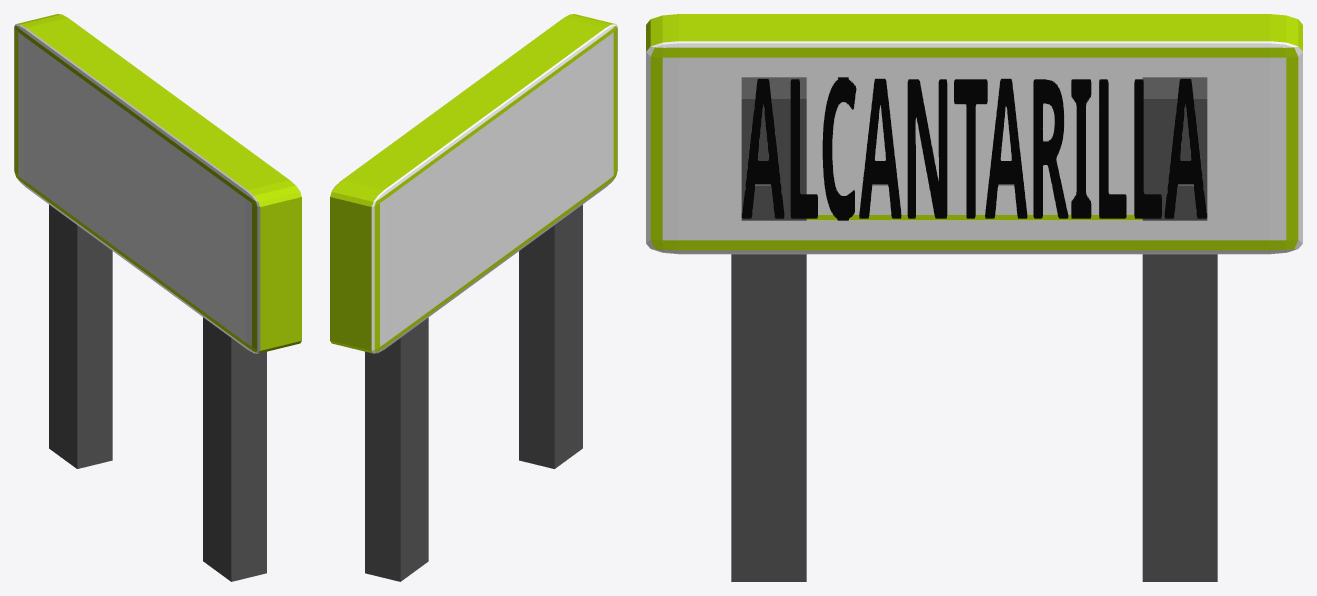
Rendered from CartelAlcantarilla.fbx.
The picture shows the model from 3 angles, left to right: view 1: azimuth 30°, elevation 25°; view 2: azimuth 150°, elevation 25°; view 3: azimuth 270°, elevation 25°; orthographic projection. The views are drawn at different scales.
Visible parts, largest first — view 1: Cube; view 2: Cube; view 3: Cube.
Part boxes in pixels (x1,y1,x2,y2): Cube: [14, 14, 301, 581]; Cube: [330, 14, 617, 581]; Cube: [646, 14, 1302, 581].
Size of the model in its own units: 26.8 by 225 by 246.
